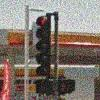traffic lights: (36, 16, 52, 75)
